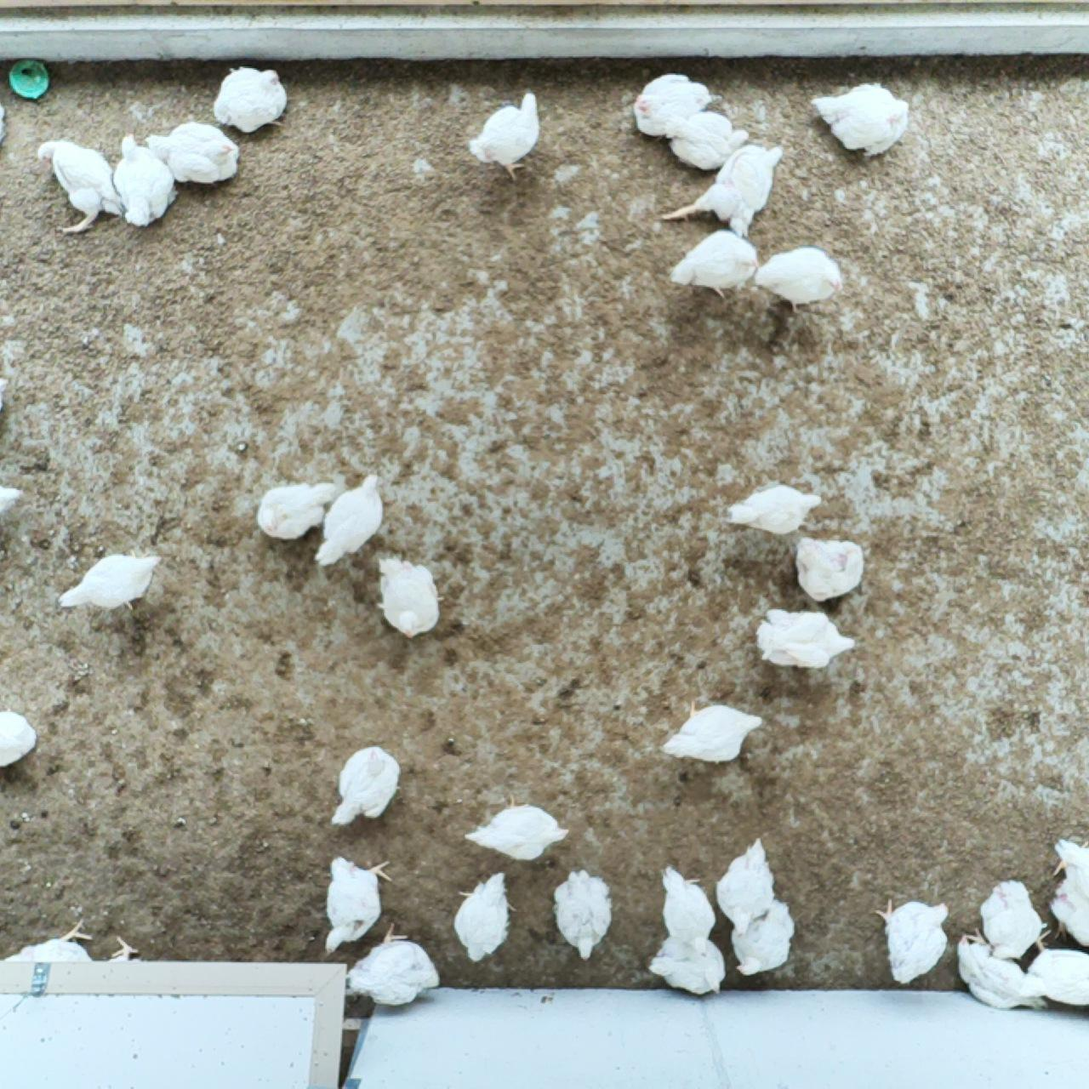chicken: (657, 140, 789, 238), (31, 136, 120, 241), (56, 543, 169, 623), (807, 78, 914, 161), (953, 924, 1049, 1015), (345, 921, 443, 1010), (315, 852, 395, 958), (869, 890, 954, 987), (464, 87, 548, 185), (656, 695, 763, 767), (662, 227, 762, 304), (314, 470, 390, 571), (463, 793, 571, 864), (753, 242, 852, 319), (750, 602, 860, 670), (142, 118, 242, 191), (371, 554, 451, 644), (328, 740, 406, 832), (715, 833, 781, 939), (547, 866, 616, 965), (627, 69, 723, 140), (210, 59, 293, 140), (450, 869, 520, 965), (112, 133, 179, 231), (660, 104, 750, 174), (977, 875, 1049, 961), (722, 480, 825, 540), (253, 475, 342, 544), (727, 898, 801, 978), (643, 936, 730, 999), (655, 862, 721, 944), (792, 534, 868, 604), (1016, 944, 1089, 1012), (1041, 877, 1089, 947), (0, 705, 41, 774), (1047, 831, 1089, 887)
